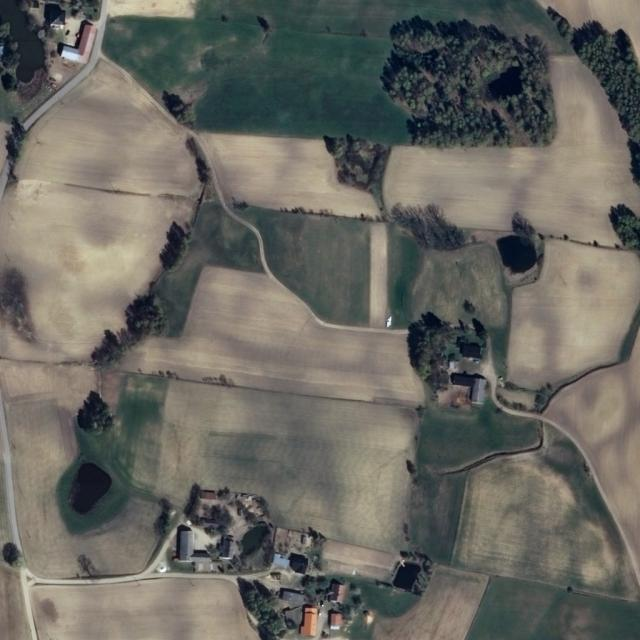agricultural_land: (52, 367, 357, 558), (390, 388, 640, 600), (391, 385, 609, 589), (16, 51, 214, 201), (117, 190, 275, 340), (277, 190, 411, 338), (197, 129, 383, 219), (477, 572, 573, 638), (388, 225, 421, 327)
building: (161, 470, 387, 636), (55, 15, 99, 66)
greenland: (117, 190, 275, 340), (382, 15, 555, 147)
wetland: (56, 457, 116, 517)
